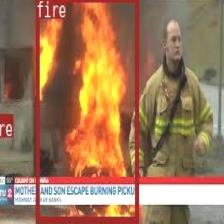fire: (35, 0, 138, 222)
